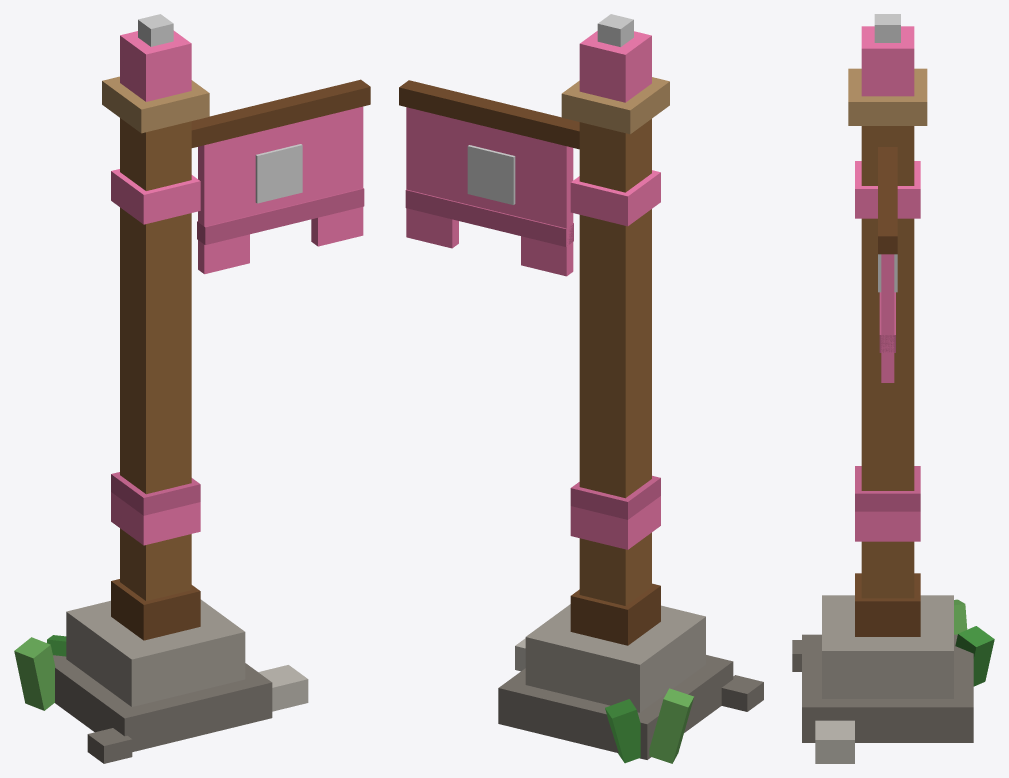
File: territory-marker-opossum.glb
3 renders of one model, left to right at view 1: azimuth 30°, elevation 25°; view 2: azimuth 150°, elevation 25°; view 3: azimuth 270°, elevation 25°, orthographic.
Visible parts, largest first — view 1: marker-post, banner; view 2: marker-post, banner; view 3: marker-post, banner.
Part boxes in pixels (bbox=[...]): marker-post: bbox=[14, 14, 308, 763]; banner: bbox=[191, 79, 370, 274]; marker-post: bbox=[498, 14, 763, 763]; banner: bbox=[399, 80, 579, 276]; marker-post: bbox=[792, 14, 994, 763]; banner: bbox=[878, 147, 897, 382].
Bounding box in the file's own units: 0.5581 × 1.15 × 0.3071.
